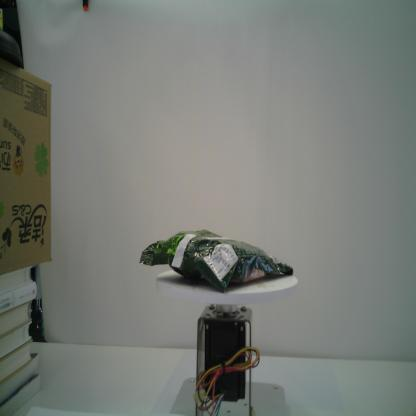Instant Noodles: (137, 227, 295, 295)
